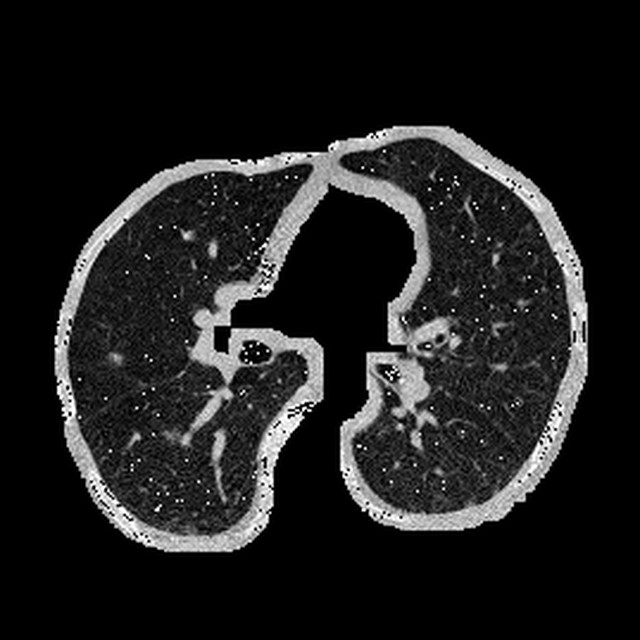PN: (162, 426, 181, 445)
